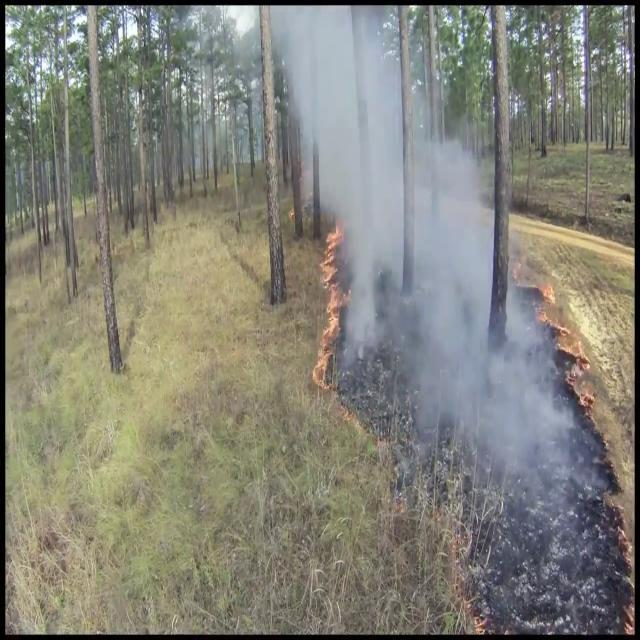Fire: (312, 218, 348, 384)
Smoke: (296, 19, 590, 544)
